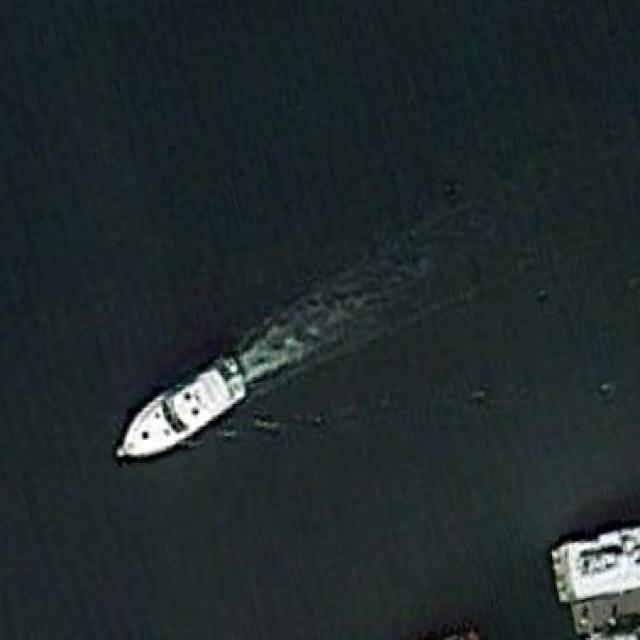ship: (119, 352, 252, 460)
